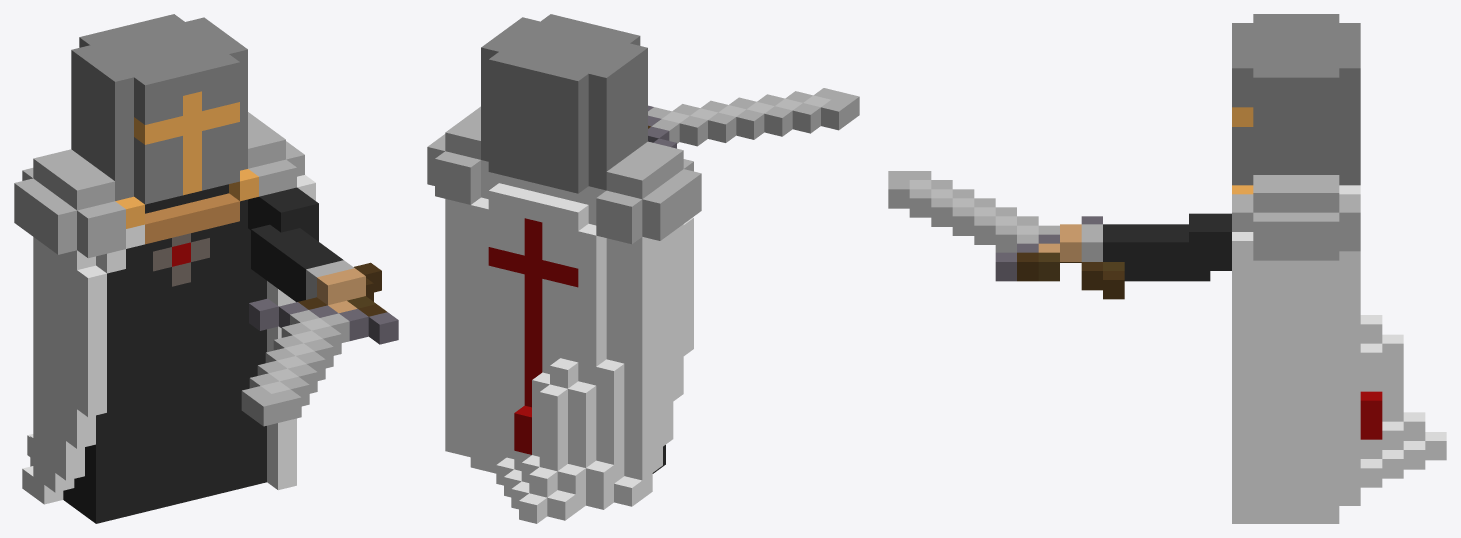
File: hit 5.obj
3 renders of one model, left to right at view 1: azimuth 30°, elevation 25°; view 2: azimuth 150°, elevation 25°; view 3: azimuth 270°, elevation 25°, orthographic. The views are drawn at different scales.
Size of the model in its own units: 13 by 22 by 26.
Materials: 1 (1 with a texture image).
